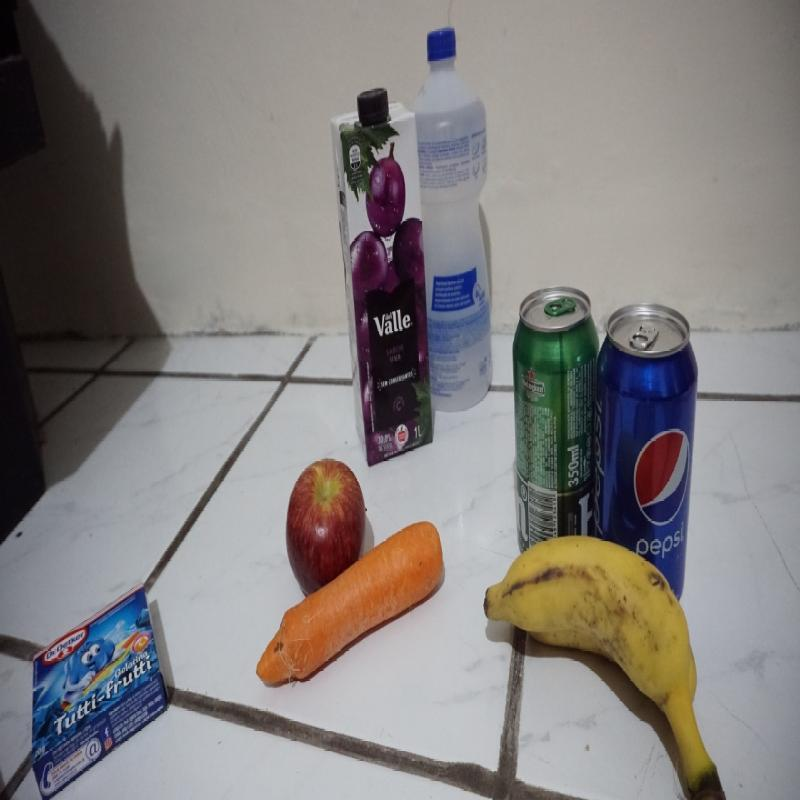Alcohol Bottle: (409, 27, 493, 412)
Apple: (284, 458, 366, 598)
Banana: (483, 534, 722, 798)
Beer can: (510, 286, 600, 580)
Carrot: (255, 522, 445, 686)
Gelatine: (31, 580, 171, 798)
Soda can: (595, 300, 699, 620)
